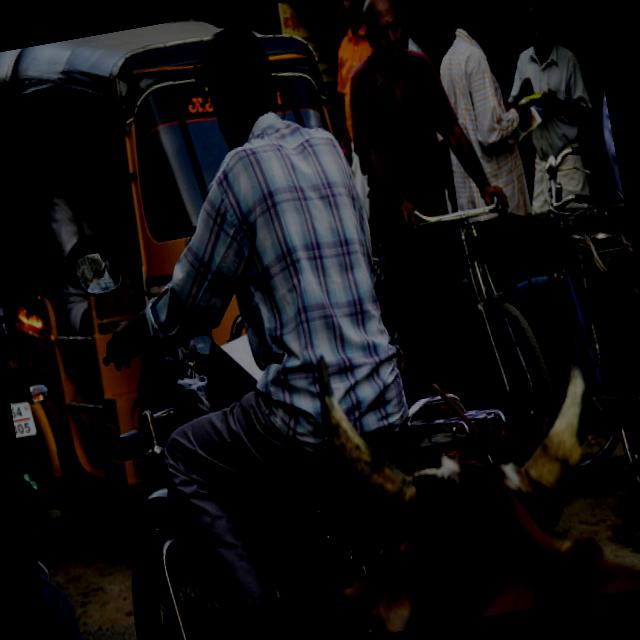Vehicle: (64, 183, 537, 640), (0, 306, 75, 549), (29, 505, 111, 640)
